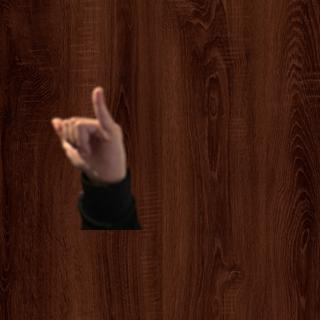HAVE: (48, 82, 132, 183)
